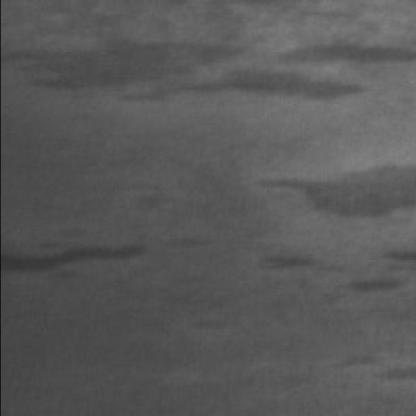inclusion: (4, 10, 410, 100), (247, 154, 412, 216), (0, 224, 150, 281), (330, 239, 410, 293), (330, 345, 410, 389), (252, 242, 349, 274)
